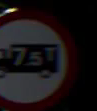Heavy Vehicles: (1, 5, 69, 108)
